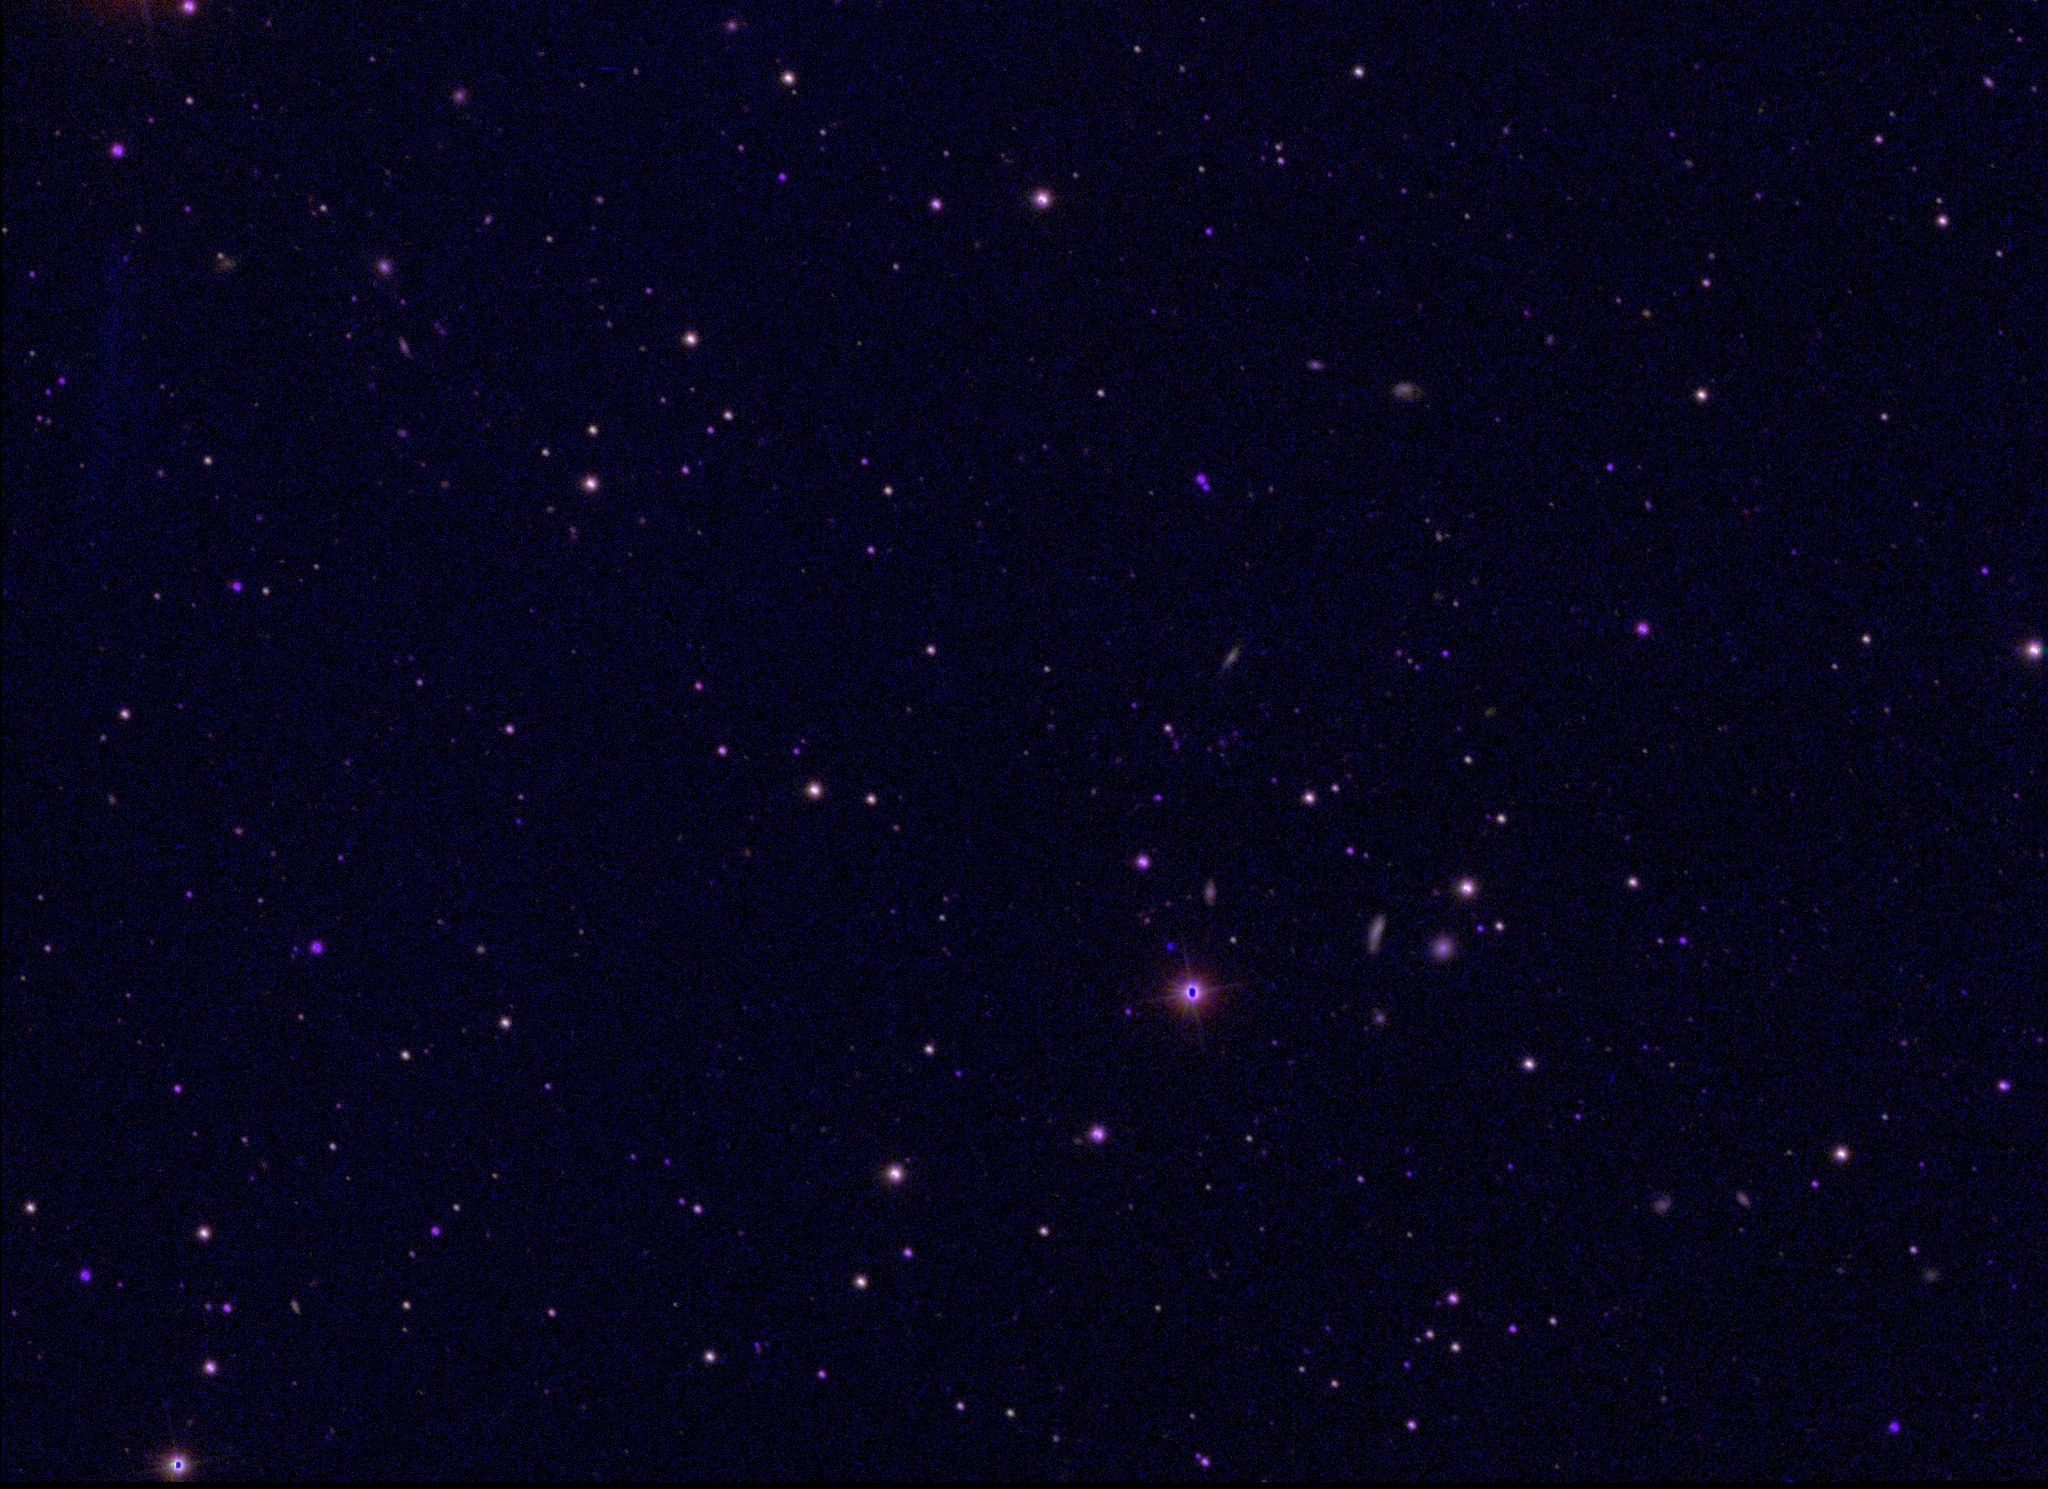L: (1161, 940, 1175, 954)
